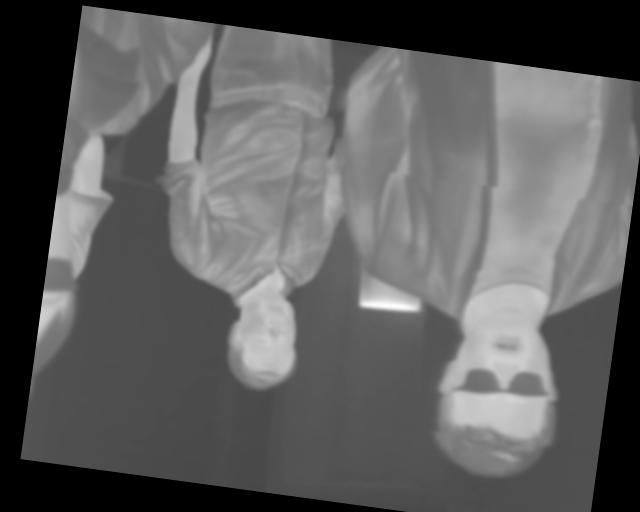face: (425, 301, 571, 487), (220, 288, 305, 396)
